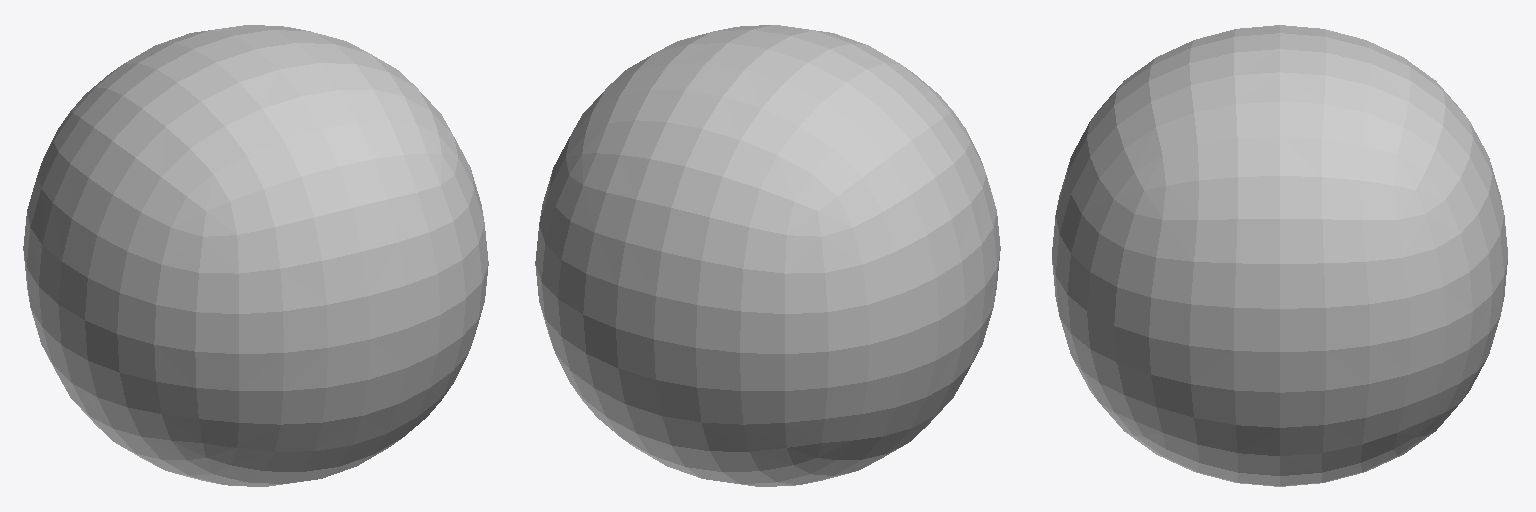
Rendered from skySphere.obj.
3 renders of one model, left to right at view 1: azimuth 30°, elevation 25°; view 2: azimuth 150°, elevation 25°; view 3: azimuth 270°, elevation 25°, orthographic.
Parts seen in each view (by area): view 1: Cube; view 2: Cube; view 3: Cube.
Boxes of the visible parts, <box> form: Cube: <box>23,25,488,486</box>; Cube: <box>535,25,1000,486</box>; Cube: <box>1052,25,1507,486</box>.
Bounding box in the file's own units: 118 × 118 × 118.